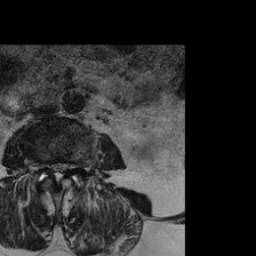CCS_normal: (55, 154, 61, 191)
LFS_stenosis: (68, 155, 76, 176)
LLS_normal: (61, 154, 68, 178)
RFS_severe_stenosis: (40, 155, 48, 175)
RLS_stenosis: (48, 155, 55, 176)
